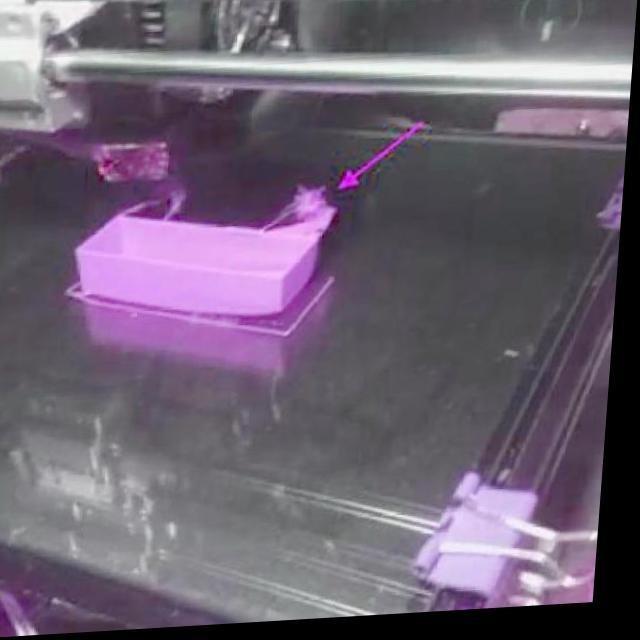spaghetti: (292, 187, 329, 220)
